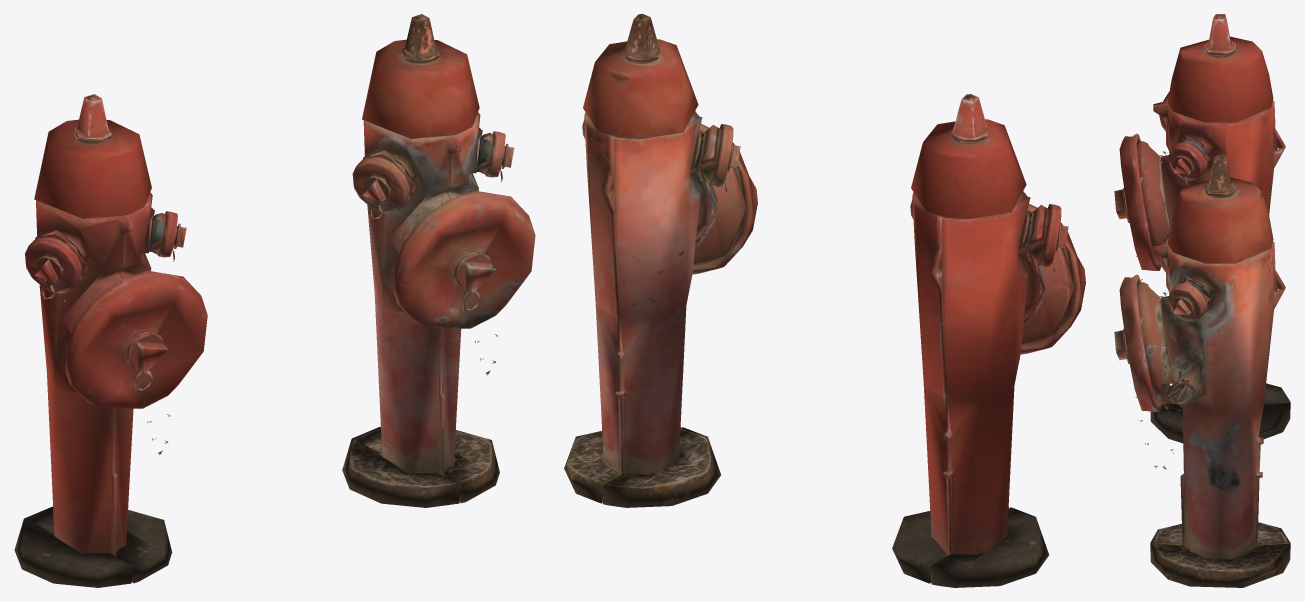
The model's file is fire_hydrant.glb.
3 renders of one model, left to right at view 1: azimuth 30°, elevation 25°; view 2: azimuth 150°, elevation 25°; view 3: azimuth 270°, elevation 25°, orthographic. The views are drawn at different scales.
Visible parts, largest first — view 1: fire_hydrant_aged, fire_hydrant, fire_hydrant_cap_01_aged, fire_hydrant_cap_01, fire_hydrant_cap_03_aged, fire_hydrant_cap_03, fire_hydrant_cap_02_aged, fire_hydrant_cap_02; view 2: fire_hydrant, fire_hydrant_aged, fire_hydrant_cap_01_aged, fire_hydrant_cap_01, fire_hydrant_cap_03, fire_hydrant_cap_03_aged; view 3: fire_hydrant_aged, fire_hydrant, fire_hydrant_cap_01_aged, fire_hydrant_cap_01, fire_hydrant_cap_02_aged, fire_hydrant_cap_02, fire_hydrant_chain_aged.
Part boxes in pixels (bbox=[...]): fire_hydrant_aged: bbox=[342, 14, 499, 507]; fire_hydrant: bbox=[14, 94, 172, 587]; fire_hydrant_cap_01_aged: bbox=[393, 191, 535, 328]; fire_hydrant_cap_01: bbox=[66, 271, 207, 408]; fire_hydrant_cap_03_aged: bbox=[352, 156, 410, 213]; fire_hydrant_cap_03: bbox=[25, 236, 83, 293]; fire_hydrant_cap_02_aged: bbox=[485, 131, 514, 177]; fire_hydrant_cap_02: bbox=[157, 211, 186, 257]; fire_hydrant: bbox=[892, 94, 1073, 587]; fire_hydrant_aged: bbox=[564, 14, 745, 507]; fire_hydrant_cap_01_aged: bbox=[692, 123, 757, 274]; fire_hydrant_cap_01: bbox=[1020, 203, 1085, 354]; fire_hydrant_cap_03: bbox=[1038, 204, 1068, 266]; fire_hydrant_cap_03_aged: bbox=[710, 124, 740, 186]; fire_hydrant_aged: bbox=[1137, 155, 1290, 587]; fire_hydrant: bbox=[1137, 14, 1290, 443]; fire_hydrant_cap_01_aged: bbox=[1114, 274, 1161, 411]; fire_hydrant_cap_01: bbox=[1114, 133, 1161, 270]; fire_hydrant_cap_02_aged: bbox=[1168, 282, 1207, 321]; fire_hydrant_cap_02: bbox=[1168, 141, 1207, 180]; fire_hydrant_chain_aged: bbox=[1136, 292, 1194, 469].
Size of the model in its own units: 0.8742 by 0.7992 by 0.3173.
2 materials, 2 textured.
